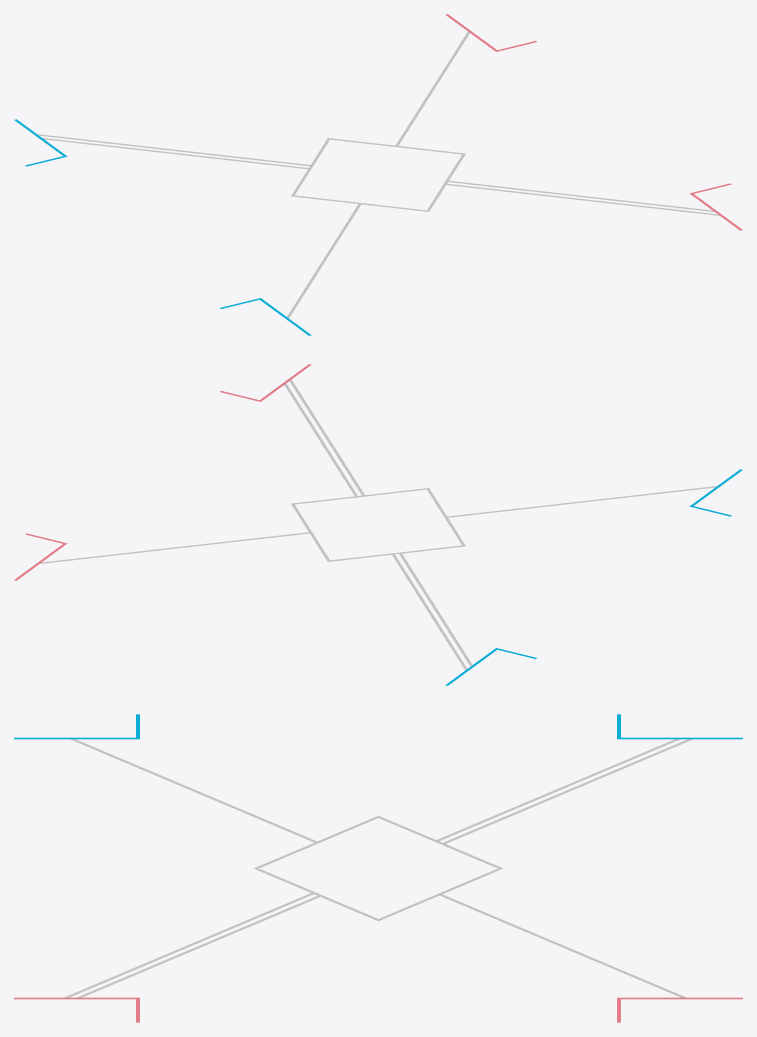
The model's file is field_tape.gltf.
The picture shows the model from 3 angles, top to bottom: view 1: azimuth 30°, elevation 25°; view 2: azimuth 150°, elevation 25°; view 3: azimuth 270°, elevation 25°; orthographic projection. The views are drawn at different scales.
Parts seen in each view (by area): view 1: Tape; view 2: Tape; view 3: Tape.
Boxes of the visible parts, x1=… form: Tape: x1=14, y1=14, x2=742, y2=335; Tape: x1=14, y1=364, x2=742, y2=685; Tape: x1=14, y1=714, x2=742, y2=1022.
Size of the model in its own units: 3.57 by 0.000178 by 3.57.
